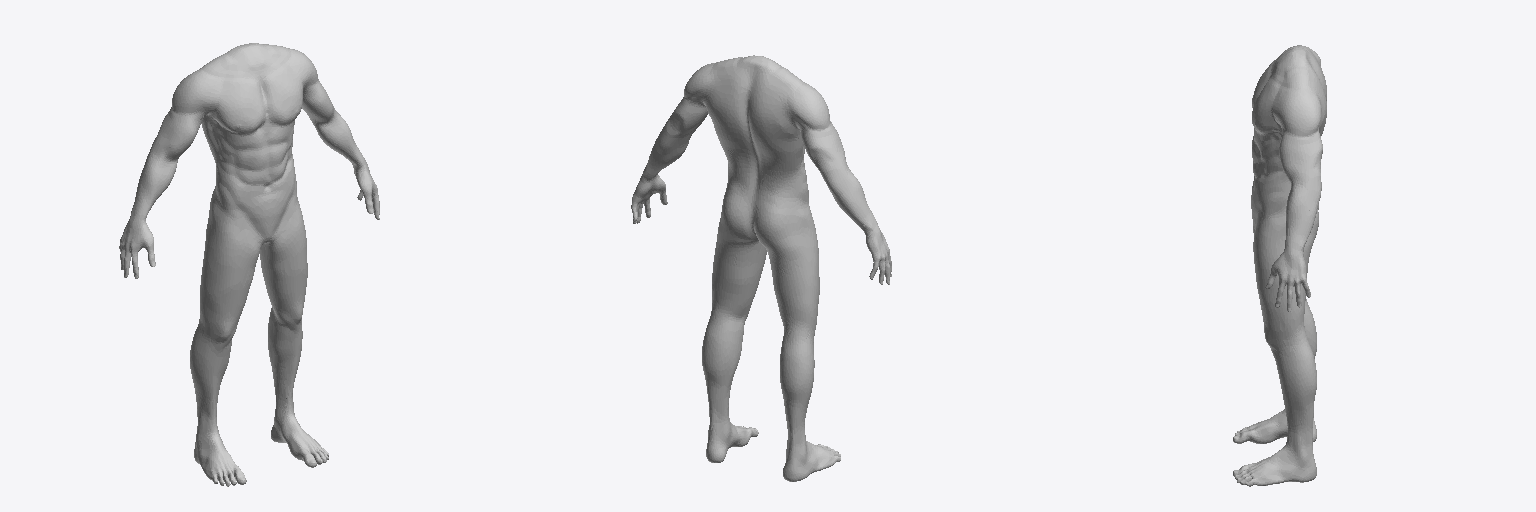
File: Thug01_body.OBJ
3 renders of one model, left to right at view 1: azimuth 30°, elevation 25°; view 2: azimuth 150°, elevation 25°; view 3: azimuth 270°, elevation 25°, orthographic.
Parts seen in each view (by area): view 1: Group16316; view 2: Group16316; view 3: Group16316.
Boxes of the visible parts, x1,y1,x2,y2 form: Group16316: [119, 43, 379, 486]; Group16316: [631, 55, 891, 481]; Group16316: [1233, 45, 1326, 486].
Size of the model in its own units: 10.72 by 16.52 by 3.46.